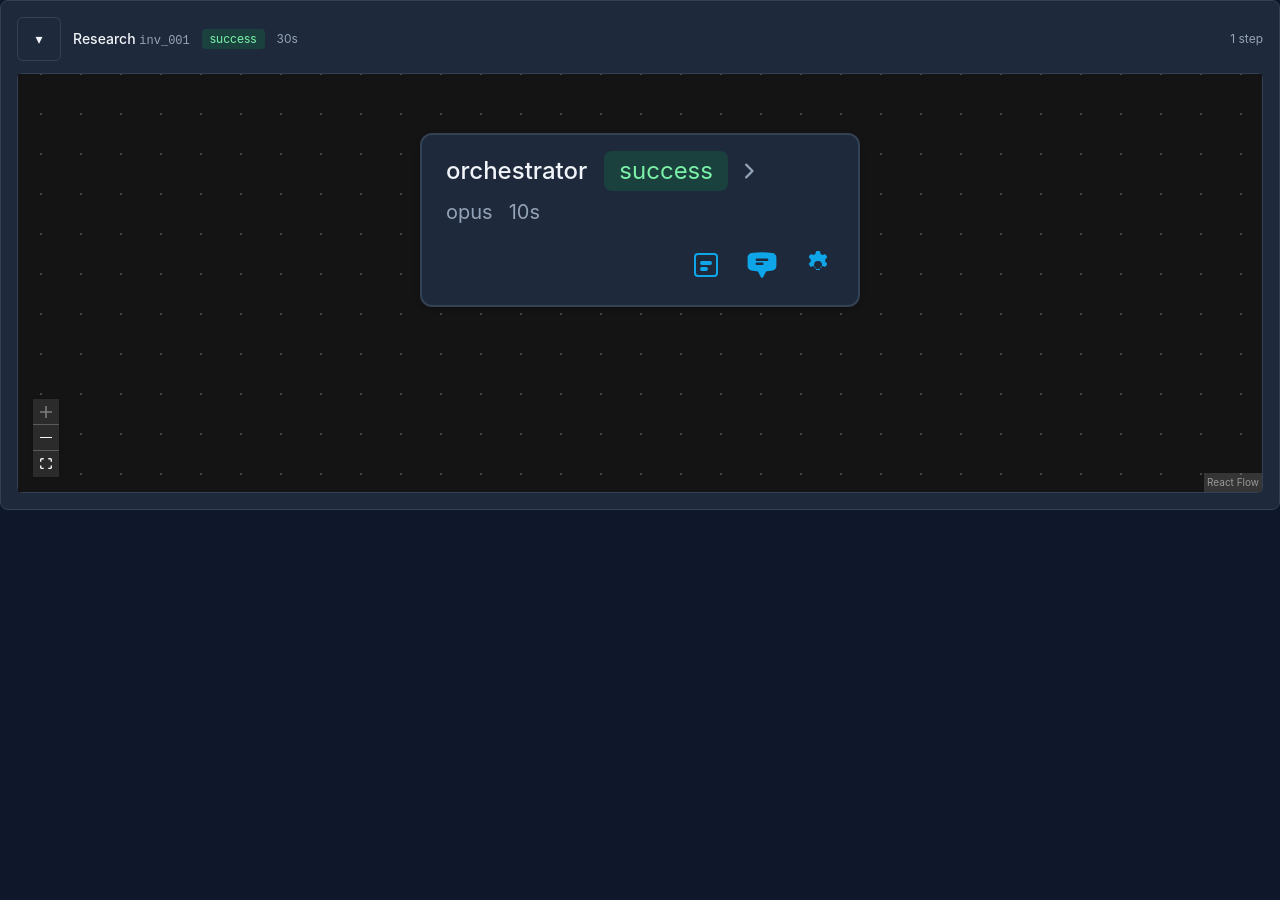
InvocationCard › node detail modal can be closed via close button
The image size is (1280, 900).
Check: the element with test id "workflow-node-orchestrator" is shown, box [420,133,860,308]
Click the button with test id "icon-output" at (706, 266), box [682,242,730,290]
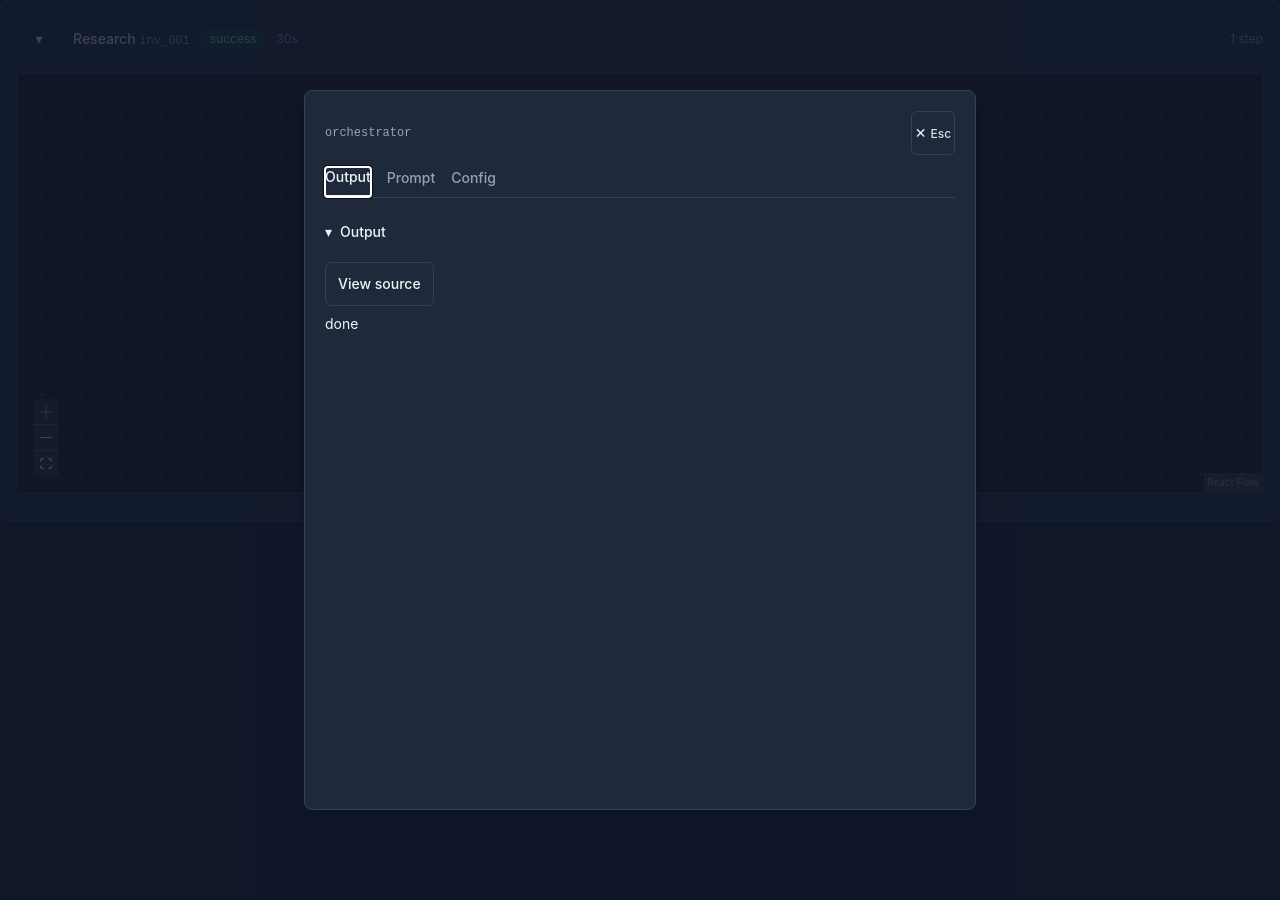
Check: the dialog with test id "node-detail-dialog" is shown, box [304,90,976,810]
Click the button with test id "node-detail-close" at (933, 133), box [911,111,955,155]
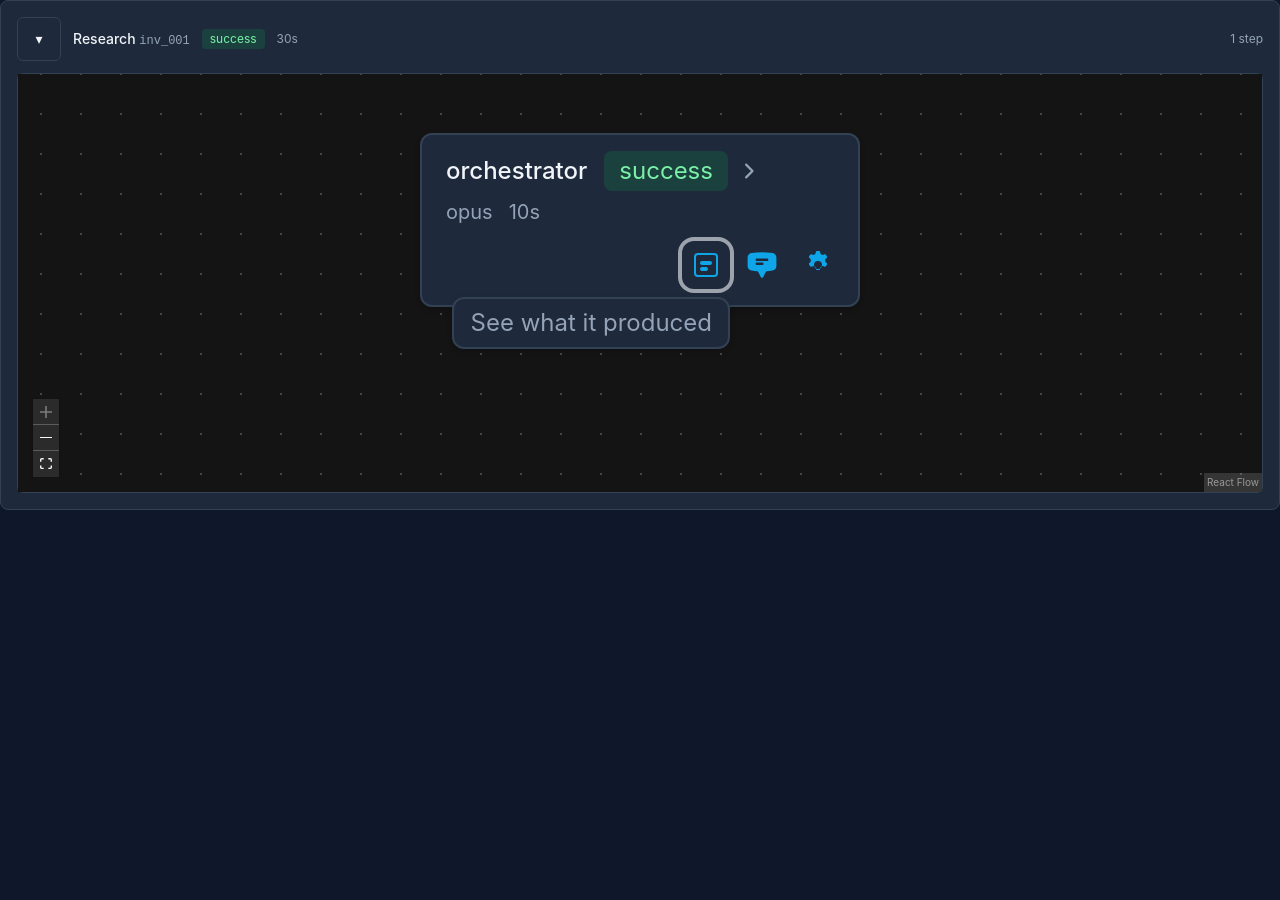
Check: the dialog with test id "node-detail-dialog" is gone
